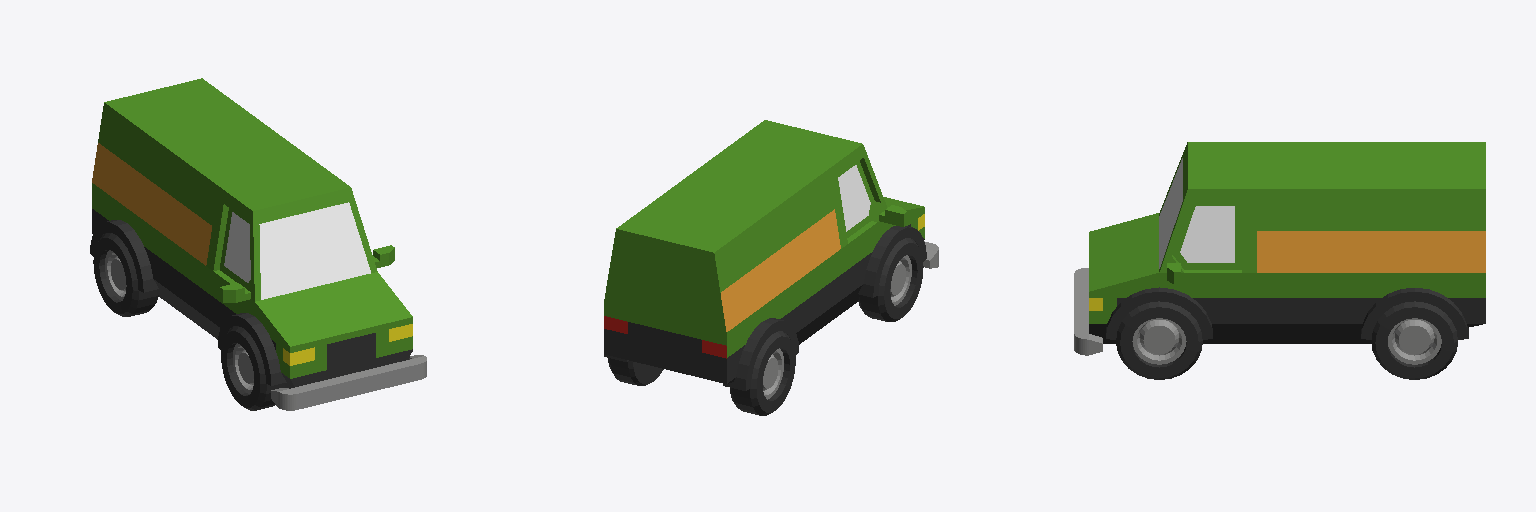
Rendered from van_green.obj.
3 views of the same model, side by side, from view 1: azimuth 30°, elevation 25°; view 2: azimuth 150°, elevation 25°; view 3: azimuth 270°, elevation 25° (orthographic).
Parts seen in each view (by area): view 1: mergedBlocks; view 2: mergedBlocks; view 3: mergedBlocks.
Part boxes in pixels (bbox=[...]): mergedBlocks: bbox=[90, 78, 426, 410]; mergedBlocks: bbox=[604, 120, 938, 415]; mergedBlocks: bbox=[1074, 142, 1485, 379].
Size of the model in its own units: 1.4 by 1.41 by 2.9.